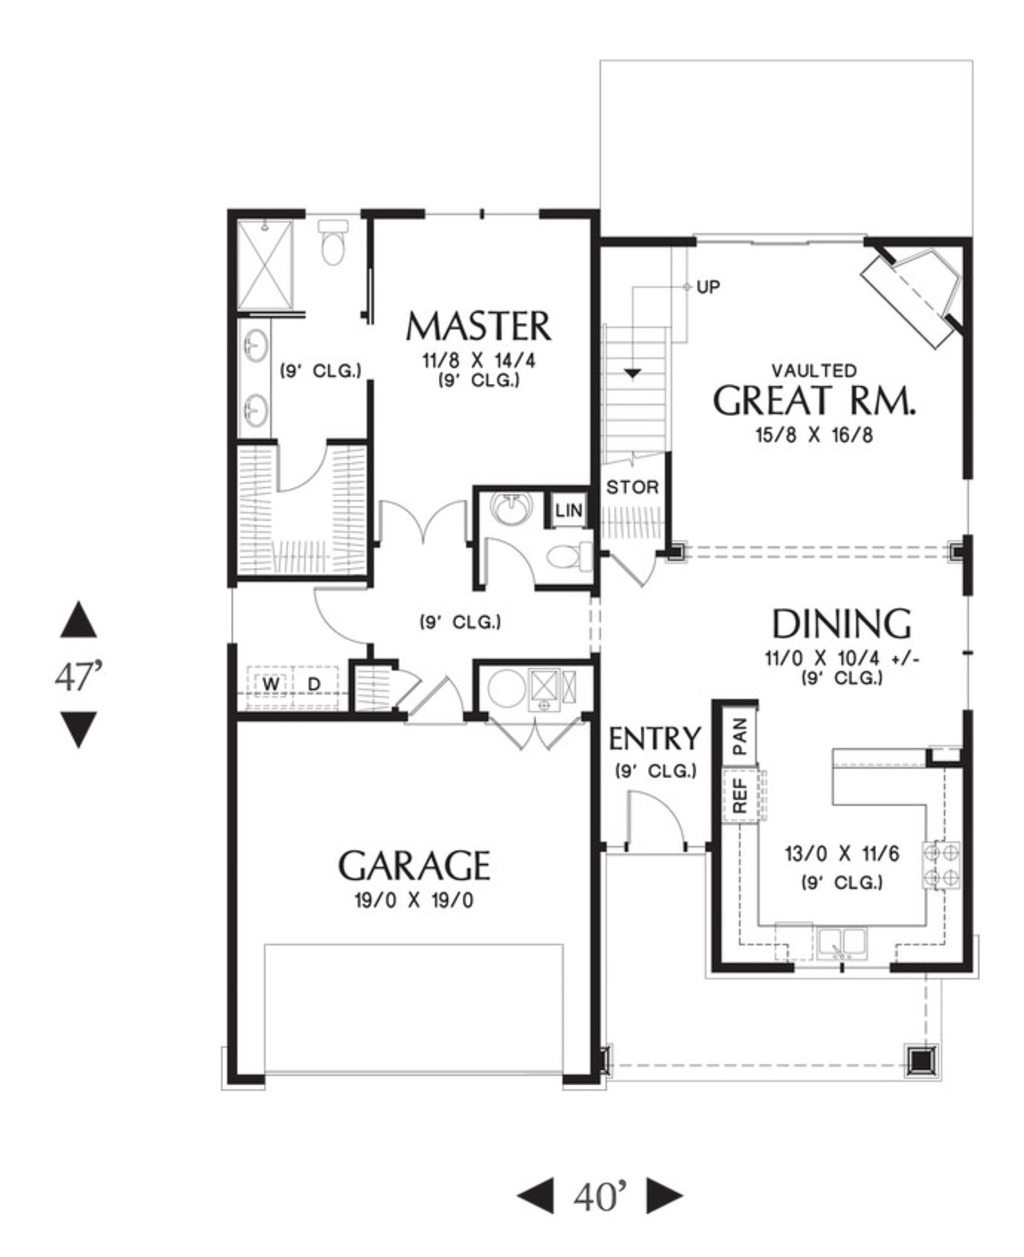door: (620, 784, 689, 861), (595, 535, 673, 598), (379, 500, 467, 553), (306, 580, 377, 645), (273, 437, 340, 502), (487, 712, 577, 757), (483, 529, 540, 586), (414, 678, 465, 729), (392, 663, 428, 706)
large_sink: (308, 214, 363, 276), (538, 533, 599, 586)
small_sink: (227, 314, 285, 445), (477, 490, 563, 529)
stairs: (597, 239, 720, 461)
twin_sink: (804, 925, 879, 974)
window: (424, 196, 546, 231), (965, 600, 969, 719)
